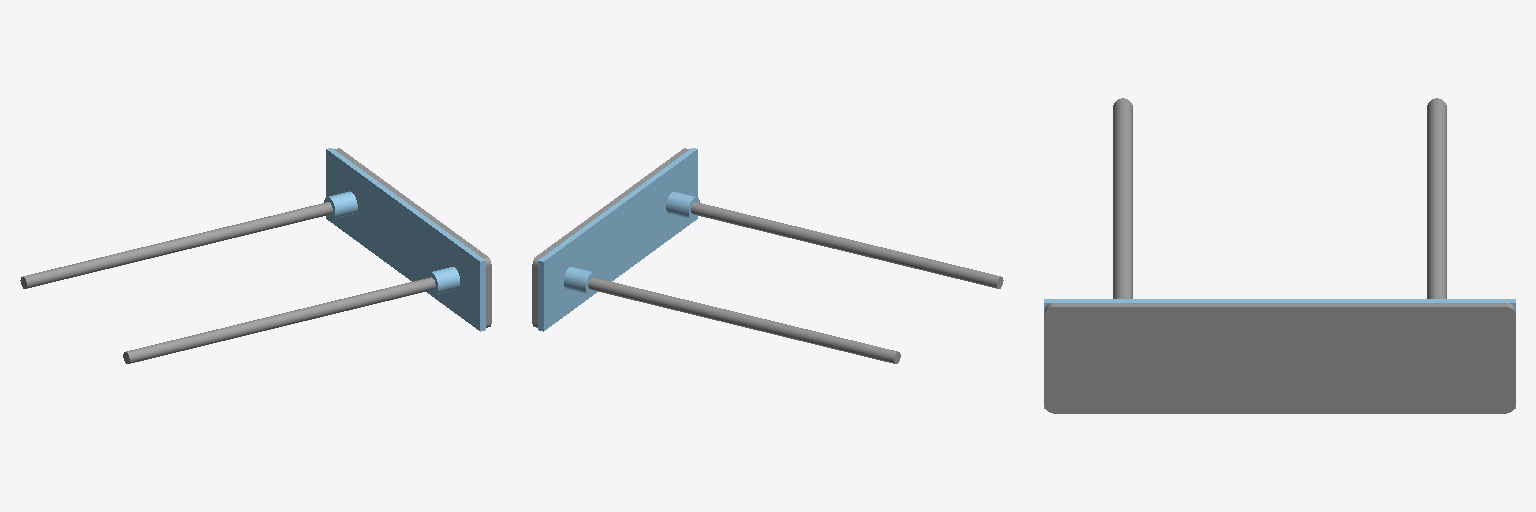
robot.urdf — onshape:
<robot name="onshape">
<link name="kicker_base">
<visual>
<origin xyz="-0.012500000000000011102 0 0.15000000000000007772" rpy="0 -0 0" />
<geometry>
<mesh filename="package://urdf/kicker/kicker_base.stl"/>
</geometry>
<material name="kicker_base_material">
<color rgba="0.61568627450980395466 0.81176470588235294379 0.92941176470588238168 1.0"/>
</material>
</visual>
<collision>
<origin xyz="-0.012500000000000011102 0 0.15000000000000007772" rpy="0 -0 0" />
<geometry>
<mesh filename="package://urdf/kicker/kicker_base.stl"/>
</geometry>
</collision>
<inertial>
<origin xyz="0 0 0" rpy="0 0 0"/>
<mass value="0" />
<inertia ixx="0" ixy="0"  ixz="0" iyy="0" iyz="0" izz="0" />
</inertial>
</link>

<link name="kicker_arm">
<visual>
<origin xyz="0.39999999999999991118 0 -0.024999999999999911182" rpy="-1.570796326794896558 -1.570796326794896558 0" />
<geometry>
<mesh filename="package://urdf/kicker/kicker_arm.stl"/>
</geometry>
<material name="kicker_arm_material">
<color rgba="0.64705882352941179736 0.64705882352941179736 0.64705882352941179736 1.0"/>
</material>
</visual>
<collision>
<origin xyz="0.39999999999999991118 0 -0.024999999999999911182" rpy="-1.570796326794896558 -1.570796326794896558 0" />
<geometry>
<mesh filename="package://urdf/kicker/kicker_arm.stl"/>
</geometry>
</collision>
<inertial>
<origin xyz="0 0 0" rpy="0 0 0"/>
<mass value="0" />
<inertia ixx="0" ixy="0"  ixz="0" iyy="0" iyz="0" izz="0" />
</inertial>
</link>

<joint name="kicker_joint" type="prismatic">
<origin xyz="0.012499999999999955591 -0.39999999999999991118 0.15000000000000007772" rpy="1.570796326794896558 -0 1.570796326794896558" />
<parent link="kicker_base" />
<child link="kicker_arm" />
<axis xyz="0 0 1"/>
<limit effort="1" velocity="20" lower="0" upper="1.1999999999999999556"/>
<joint_properties friction="0.0"/>
</joint>


</robot>

--- What the picture shows (computed from the rendered views, not written in the file) ---
3 views of the same robot in one strip: view 1: azimuth 30°, elevation 25°; view 2: azimuth 150°, elevation 25°; view 3: azimuth 270°, elevation 25° (orthographic).
Robot: onshape — 2 links, 1 joints (1 prismatic); root link kicker_base; default pose: every joint at zero.
Links seen in each view (by area): view 1: kicker_base, kicker_arm; view 2: kicker_base, kicker_arm; view 3: kicker_arm, kicker_base.
Link boxes in pixels (left/top/right/bottom): kicker_base: left=324, top=148, right=485, bottom=331; kicker_arm: left=20, top=148, right=491, bottom=363; kicker_base: left=538, top=148, right=699, bottom=331; kicker_arm: left=532, top=148, right=1003, bottom=363; kicker_arm: left=1044, top=98, right=1515, bottom=413; kicker_base: left=1044, top=299, right=1515, bottom=408.
Bounding box of the posed robot: 1.52 × 1.2 × 0.3 m (x, y, z).
Meshes: 2 distinct files referenced, 2 mesh visuals loaded (2 binary STL).